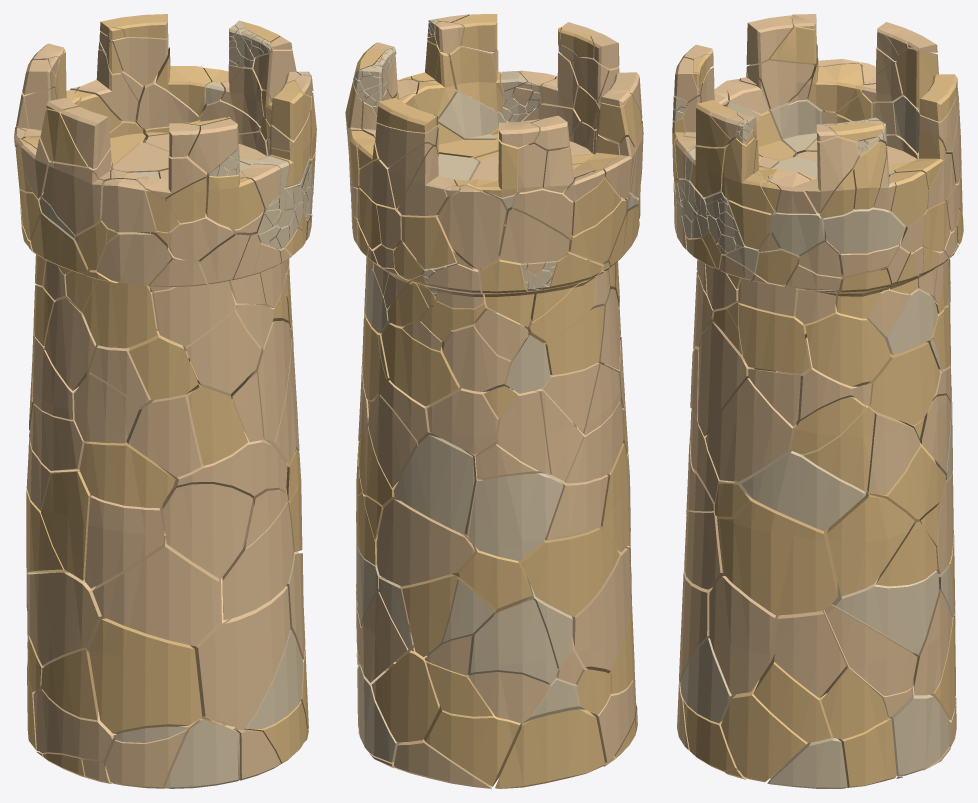
File: towerCracked.fbx
The picture shows the model from 3 angles, left to right: view 1: azimuth 30°, elevation 25°; view 2: azimuth 150°, elevation 25°; view 3: azimuth 270°, elevation 25°; orthographic projection.
Parts seen in each view (by area): view 1: Cube; view 2: Cube; view 3: Cube.
Part boxes in pixels (x1,y1,x2,y2): Cube: [14, 14, 316, 788]; Cube: [345, 14, 643, 788]; Cube: [672, 14, 963, 788].
Bounding box in the file's own units: 200 × 473 × 189.
